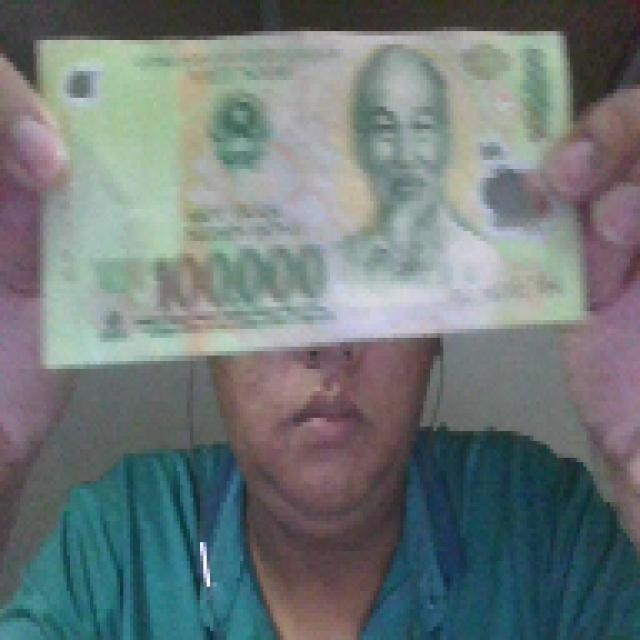100 000 VND: (30, 22, 593, 369)
